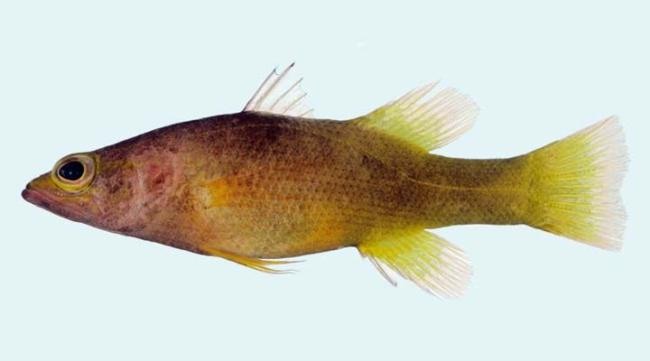fish: (20, 62, 631, 302)
